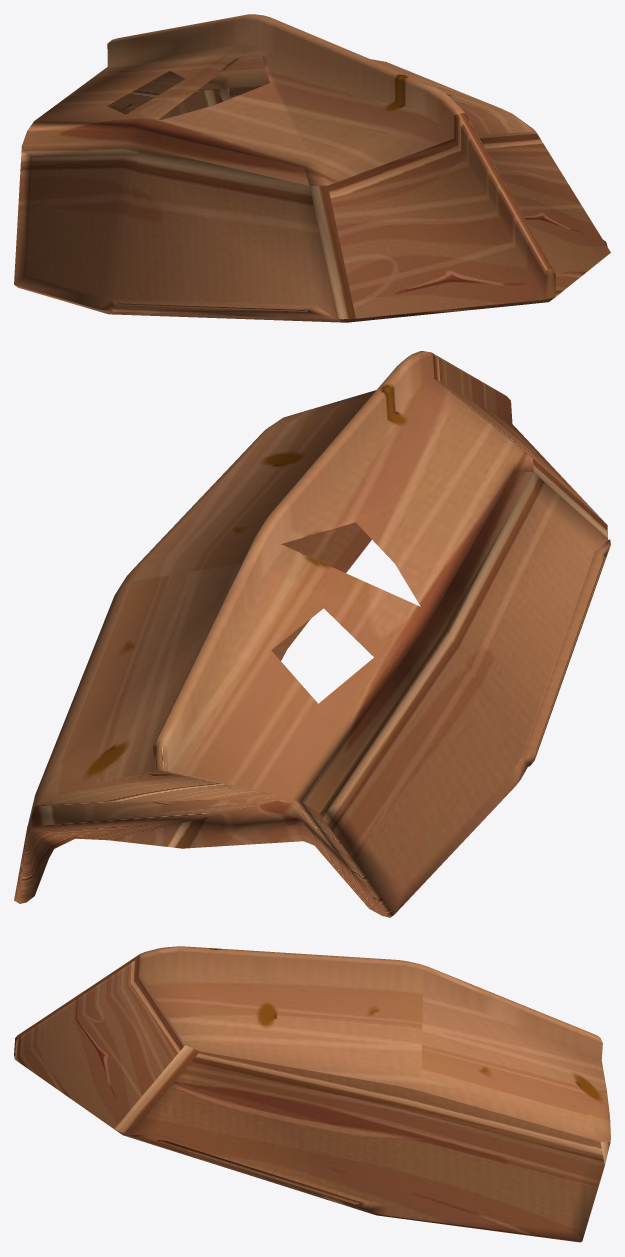
The model's file is lodkaDestoyed.fbx.
3 renders of one model, top to bottom at view 1: azimuth 30°, elevation 25°; view 2: azimuth 150°, elevation 25°; view 3: azimuth 270°, elevation 25°, orthographic. The views are drawn at different scales.
Visible parts, largest first — view 1: Cube.087; view 2: Cube.087; view 3: Cube.087.
Part boxes in pixels (x1,y1,x2,y2): Cube.087: (14, 14, 610, 322); Cube.087: (14, 351, 610, 917); Cube.087: (14, 946, 610, 1242).
Bounding box in the file's own units: 220 × 180 × 376.
